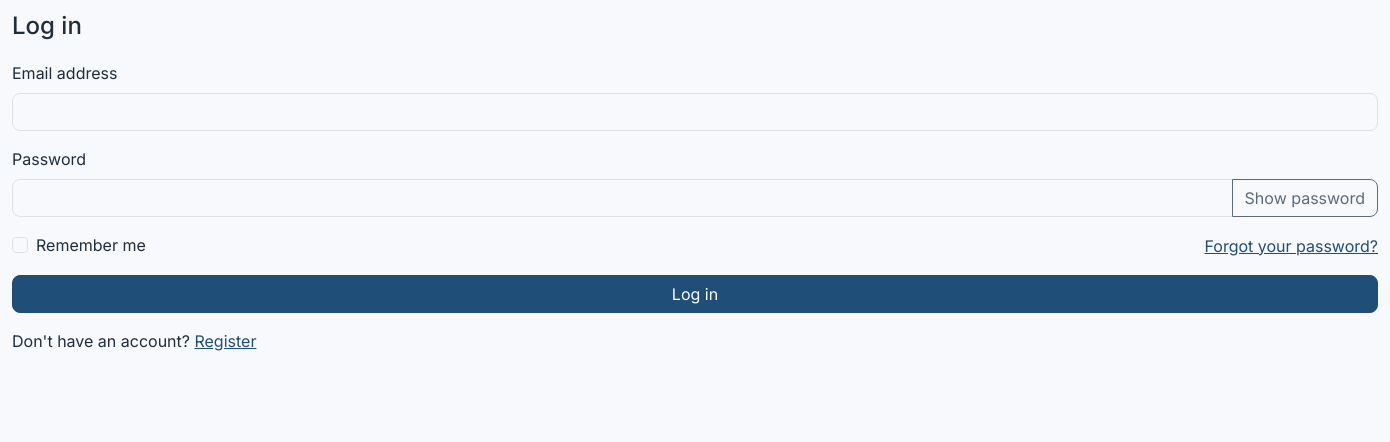
Test case: LoginPage › shows a single generic error message and no field-specific errors on failed login
The width and height of the screenshot is (1390, 442).
Type "student@example.com" into the field labelled "Email address".
click(695, 112); type("student@example.com")  # box [12,93,1378,131]
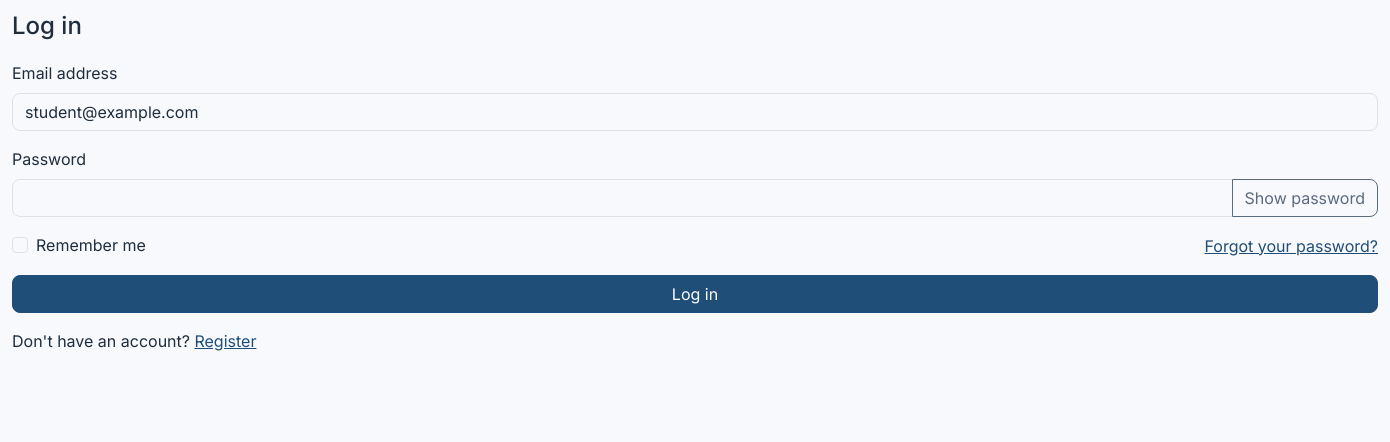
Type "password123" into the password field labelled "Password".
click(622, 198); type("password123")  # box [12,179,1233,217]
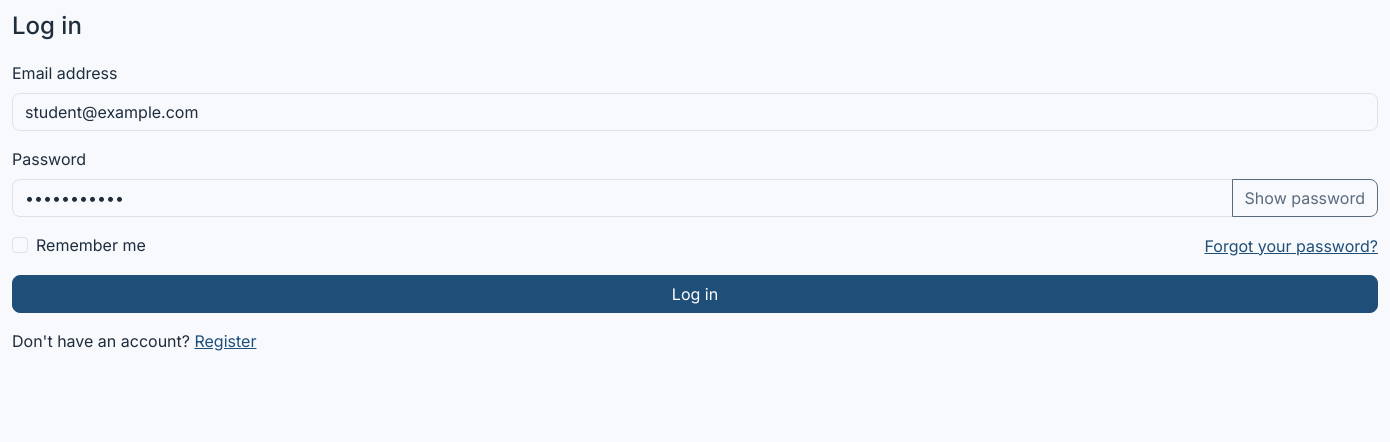
Click the button "Log in".
click(695, 294)  # box [12,275,1378,313]
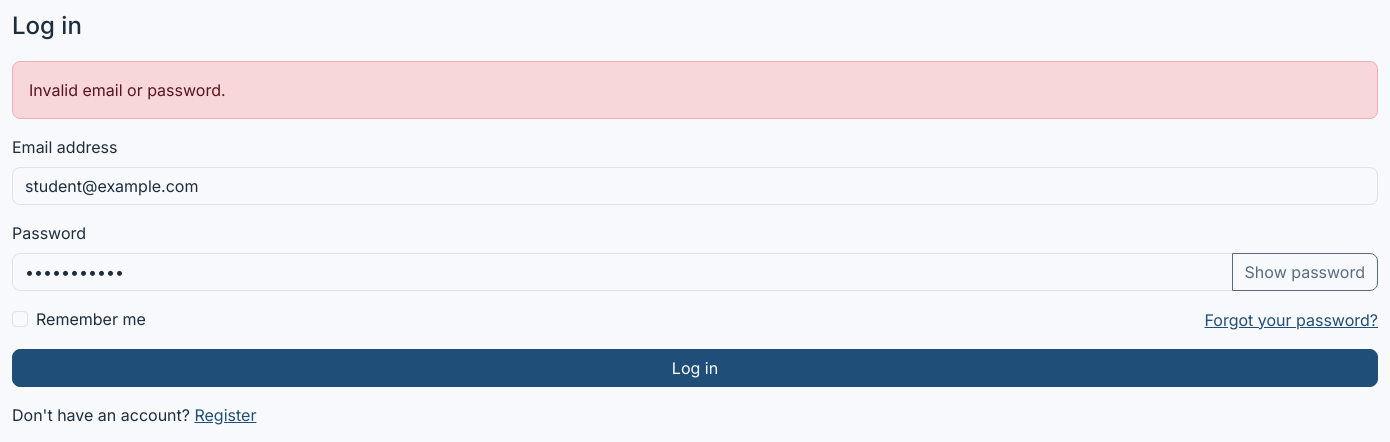
Check: the message reads "Invalid email or password.", box [29,80,226,100]
